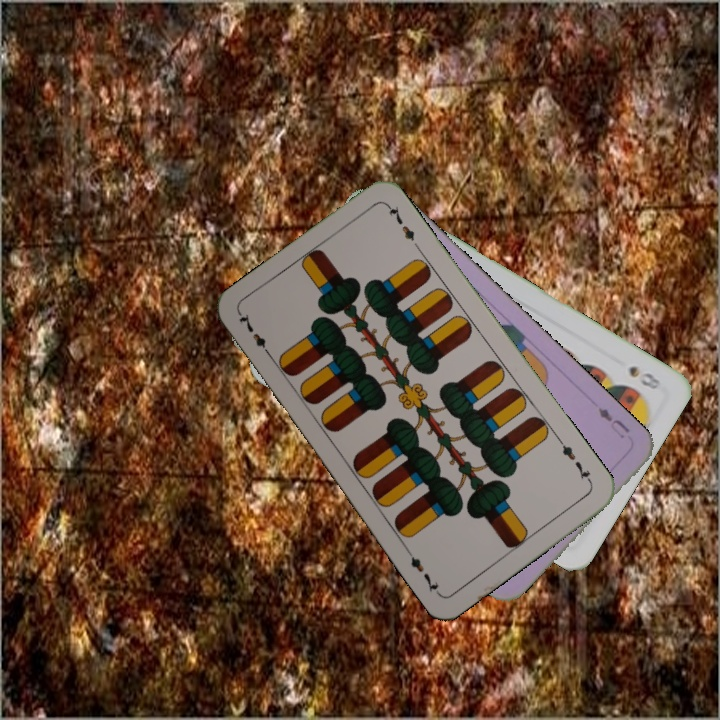E7: (235, 309, 275, 361), (555, 435, 595, 486)
EU: (594, 403, 633, 442)
S8: (624, 361, 664, 392)
